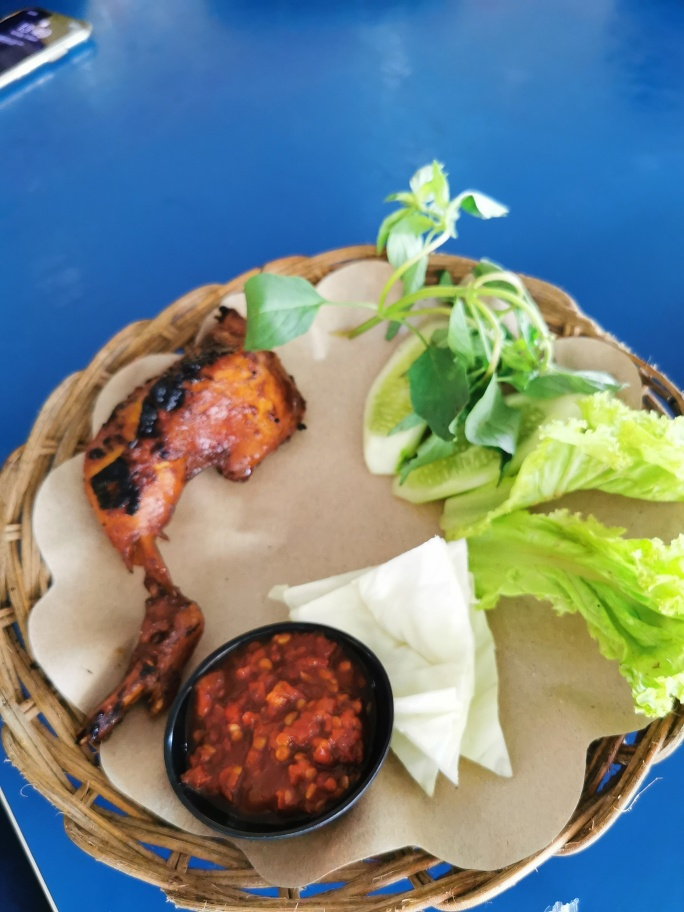ayam bakar: (62, 300, 316, 732)
